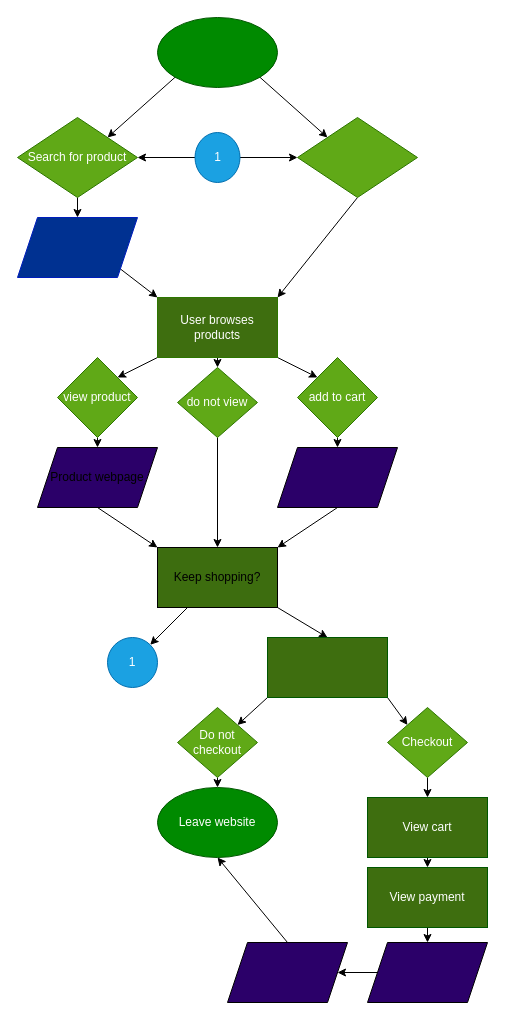
Some shapes in this 505 by 1020 pixel diagram are drawn without their labels. Here are the shapes that lost their labels. From the top down, the centre of each, then its label:
At (x=217, y=52): "User Enters website".
At (x=357, y=157): "Explore home page".
At (x=77, y=247): "Save search data".
At (x=337, y=477): "cart confirmation".
At (x=327, y=667): "Do not keep shopping".
At (x=287, y=972): "receive order confirmation".
At (x=427, y=972): "enter payment info".
